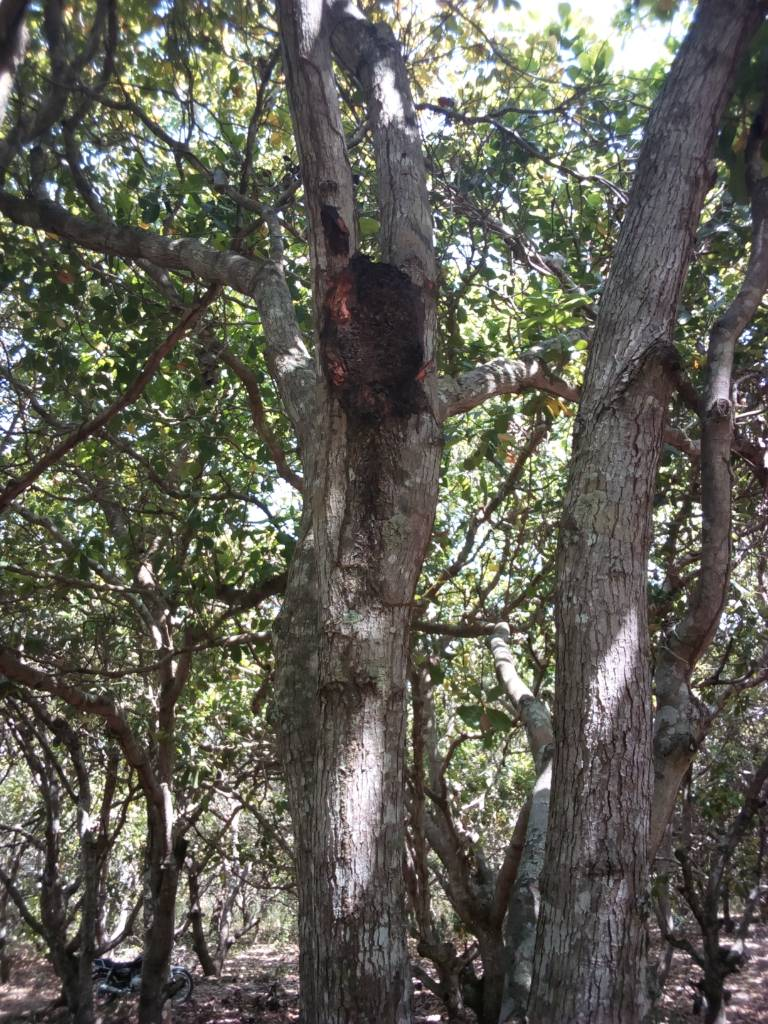Termites: (315, 252, 436, 447), (325, 460, 393, 647)
